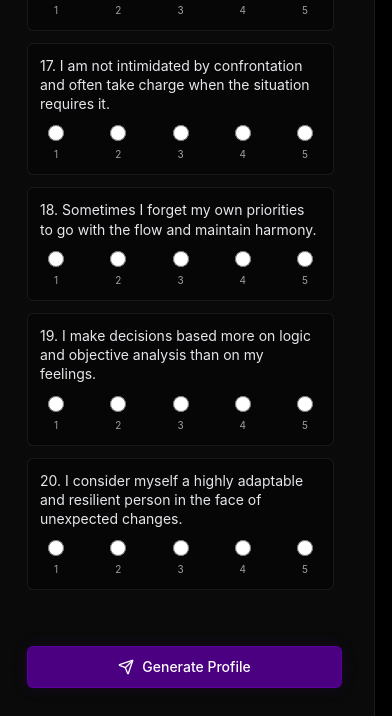
Test: L1 - TalentForm Component › Validation › shows validation errors when submitting empty form
(page scrolled)
Click the button "Generate Profile" at (184,667), box x1=27 y1=646 x2=342 y2=688
(page scrolled)
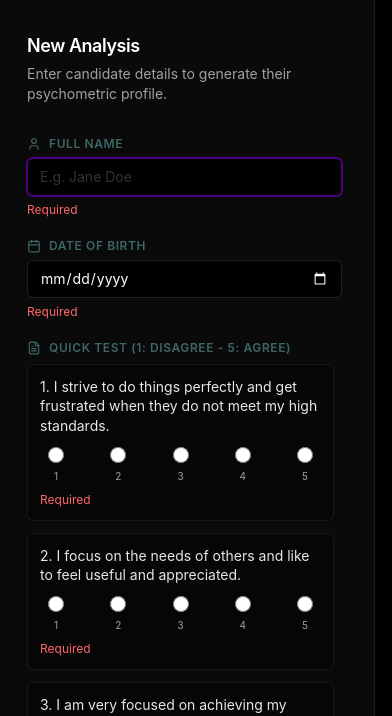
Result: the text "Required" below "Full Name" is shown at x1=27 y1=202 x2=78 y2=217
